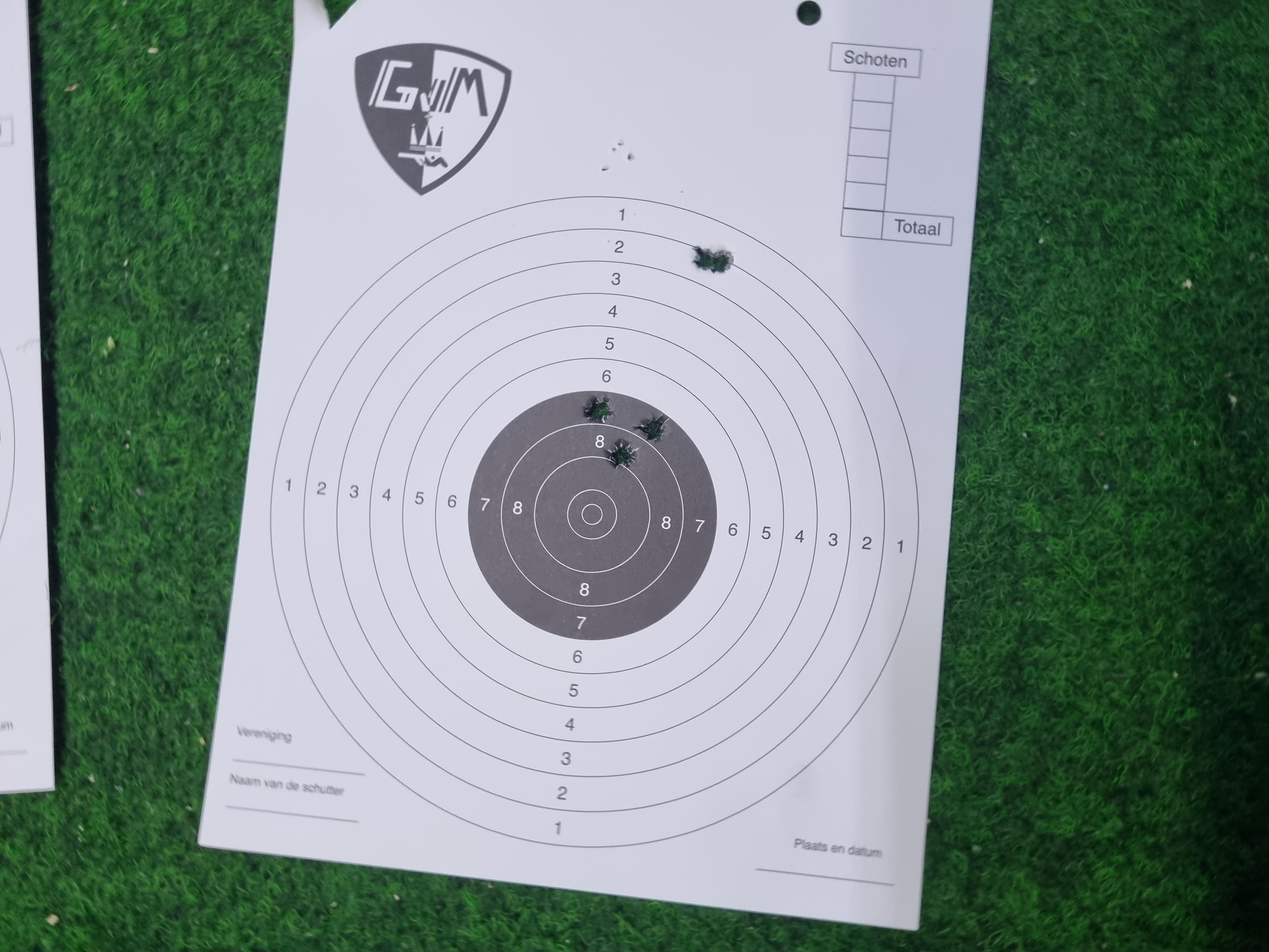hole: (680, 474, 716, 503), (704, 436, 741, 462), (643, 455, 686, 477), (907, 518, 943, 536), (904, 533, 936, 551)
